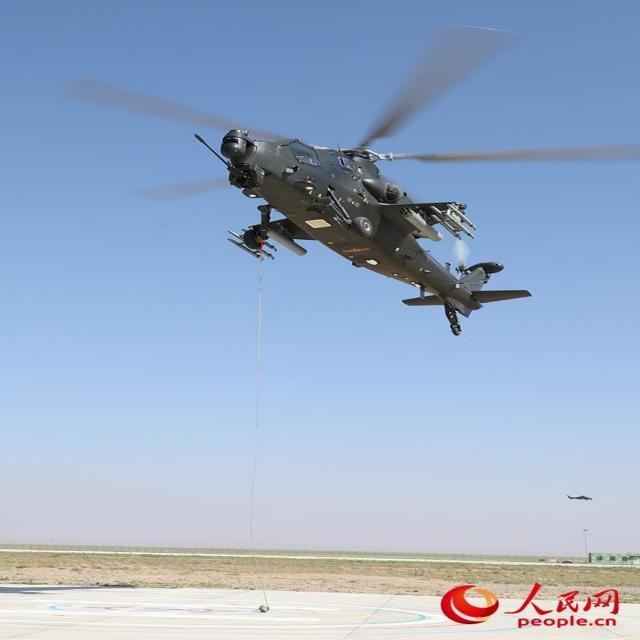MIL_HELO: (40, 18, 640, 336)
